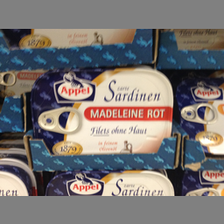fish: (31, 69, 175, 155), (43, 171, 175, 195)
